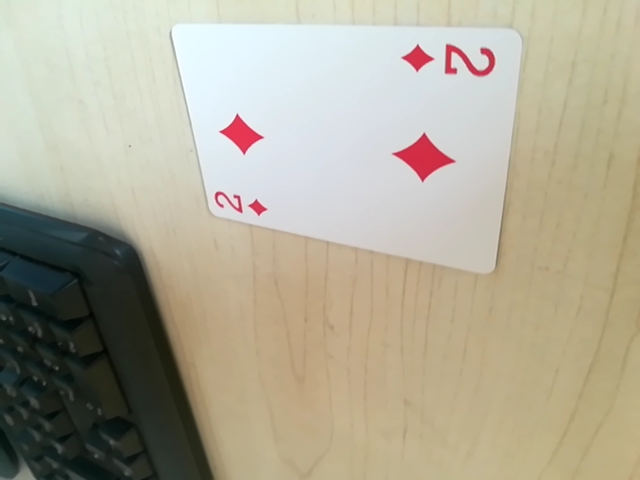fk 2: (399, 37, 504, 83), (207, 182, 273, 223)
